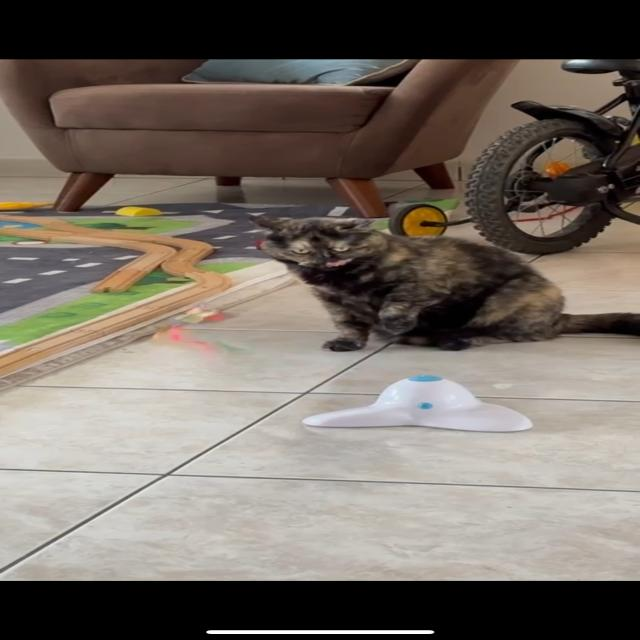authorized: (247, 212, 638, 352)
